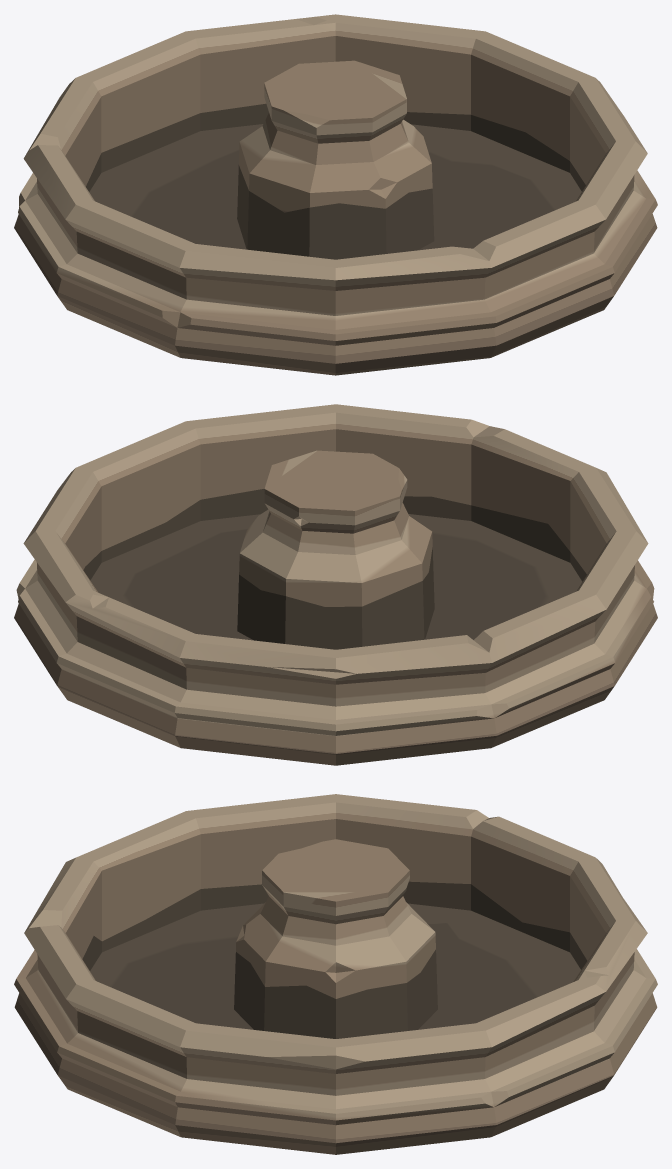
File: SM_Prop_Fountain_Base_01.fbx
3 renders of one model, top to bottom at view 1: azimuth 30°, elevation 25°; view 2: azimuth 150°, elevation 25°; view 3: azimuth 270°, elevation 25°, orthographic.
Visible parts, largest first — view 1: SM_Prop_Fountain_Base_01; view 2: SM_Prop_Fountain_Base_01; view 3: SM_Prop_Fountain_Base_01.
Boxes of the visible parts, x1=… form: SM_Prop_Fountain_Base_01: x1=14, y1=14, x2=657, y2=375; SM_Prop_Fountain_Base_01: x1=14, y1=404, x2=657, y2=765; SM_Prop_Fountain_Base_01: x1=14, y1=794, x2=657, y2=1154.
Bounding box in the file's own units: 285 × 75.25 × 285.
Materials: 1 (1 with a texture image).
